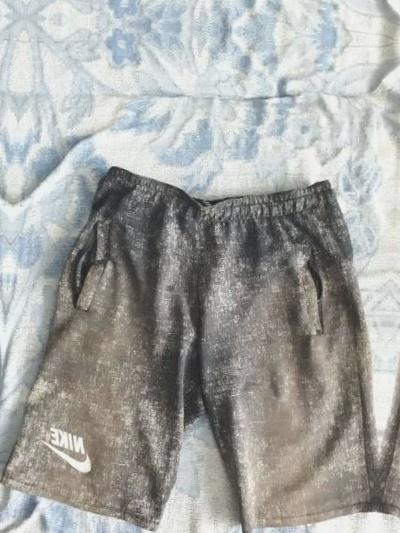Pants: (8, 137, 398, 533), (374, 161, 400, 533), (0, 111, 1, 524)
